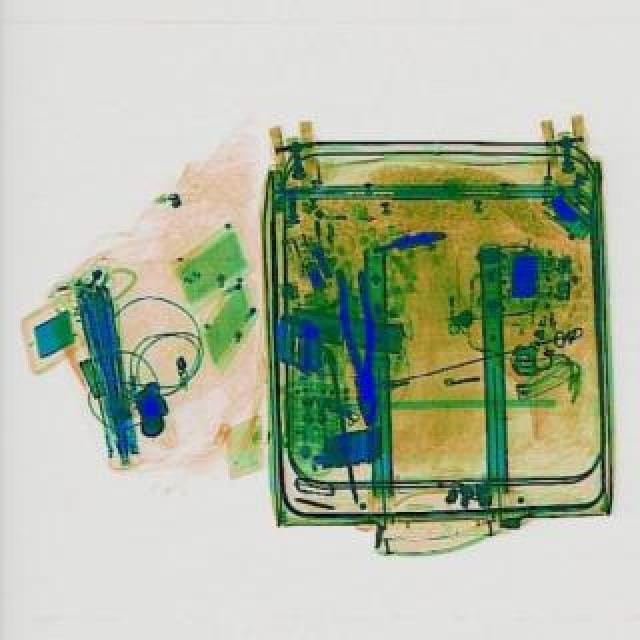wrench: (330, 264, 386, 424)
